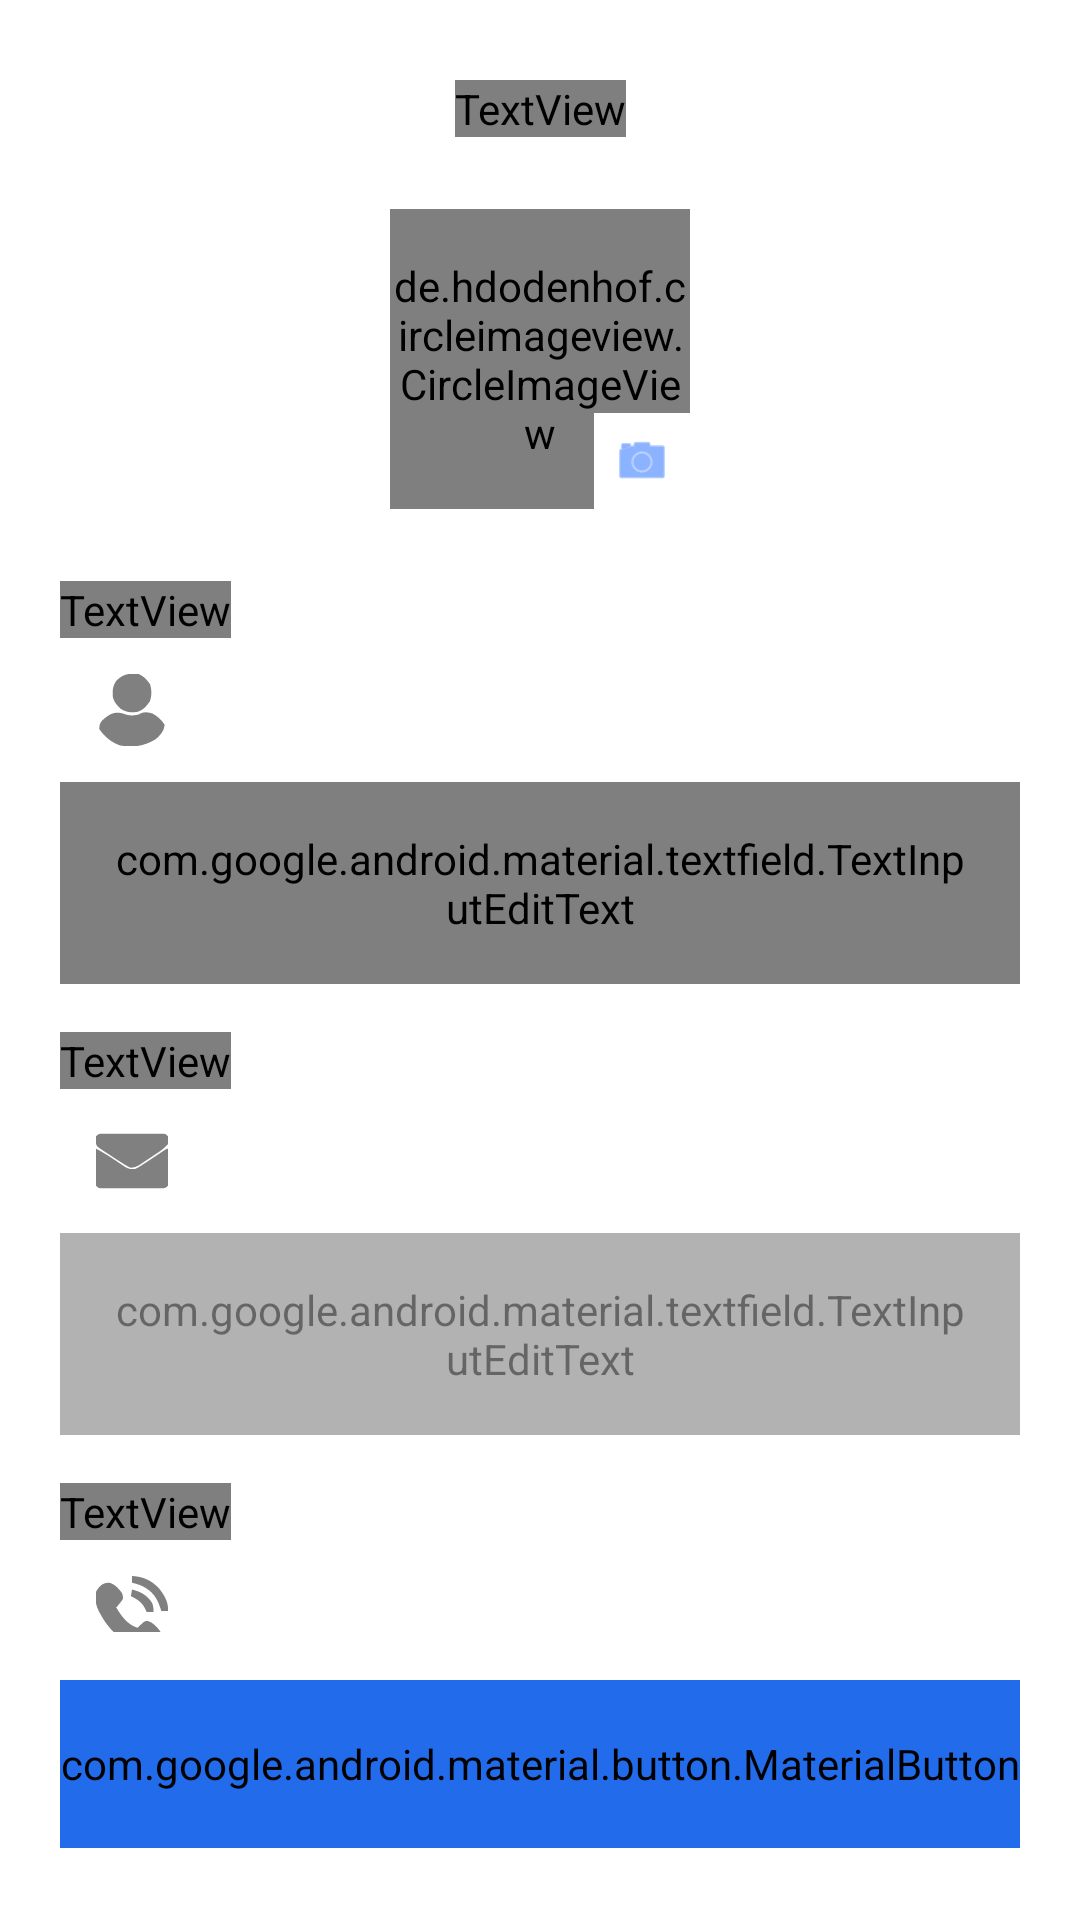

Icons on this 1080*1920 Android screen, each with its box as BBox(x1, y1, x2, y2):
camera: BBox(619, 442, 665, 479)
